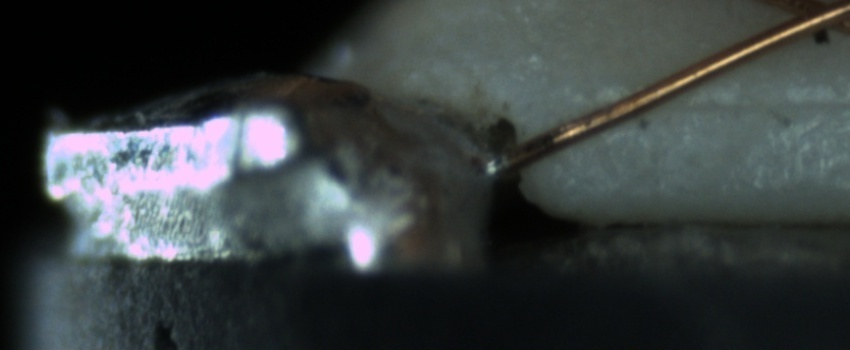CL: (761, 0, 847, 46)
DL: (622, 69, 846, 138)
